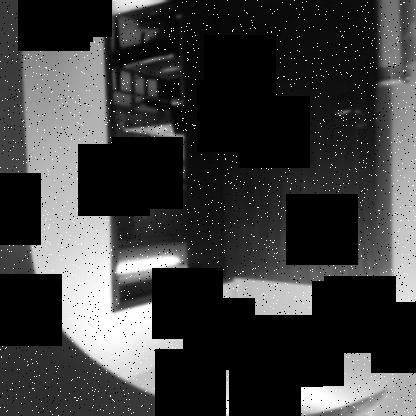Porte: (100, 0, 380, 312)
